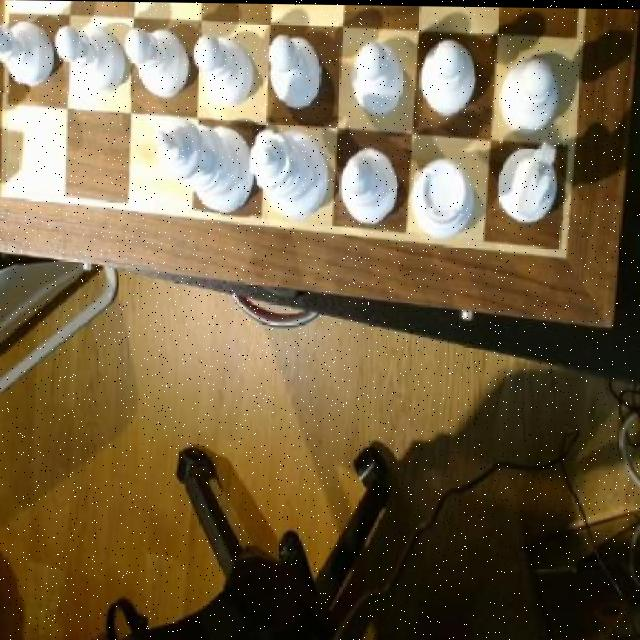black-rook: (343, 142, 400, 226)
white-bishop: (154, 119, 250, 217)
white-king: (499, 132, 563, 220)
white-knight: (56, 25, 122, 97), (505, 53, 560, 131), (130, 29, 191, 98), (268, 32, 324, 107), (197, 33, 255, 103), (352, 34, 403, 113), (0, 20, 54, 93), (424, 40, 475, 115)
white-pawn: (250, 129, 328, 219)
white-queen: (412, 157, 476, 238)
